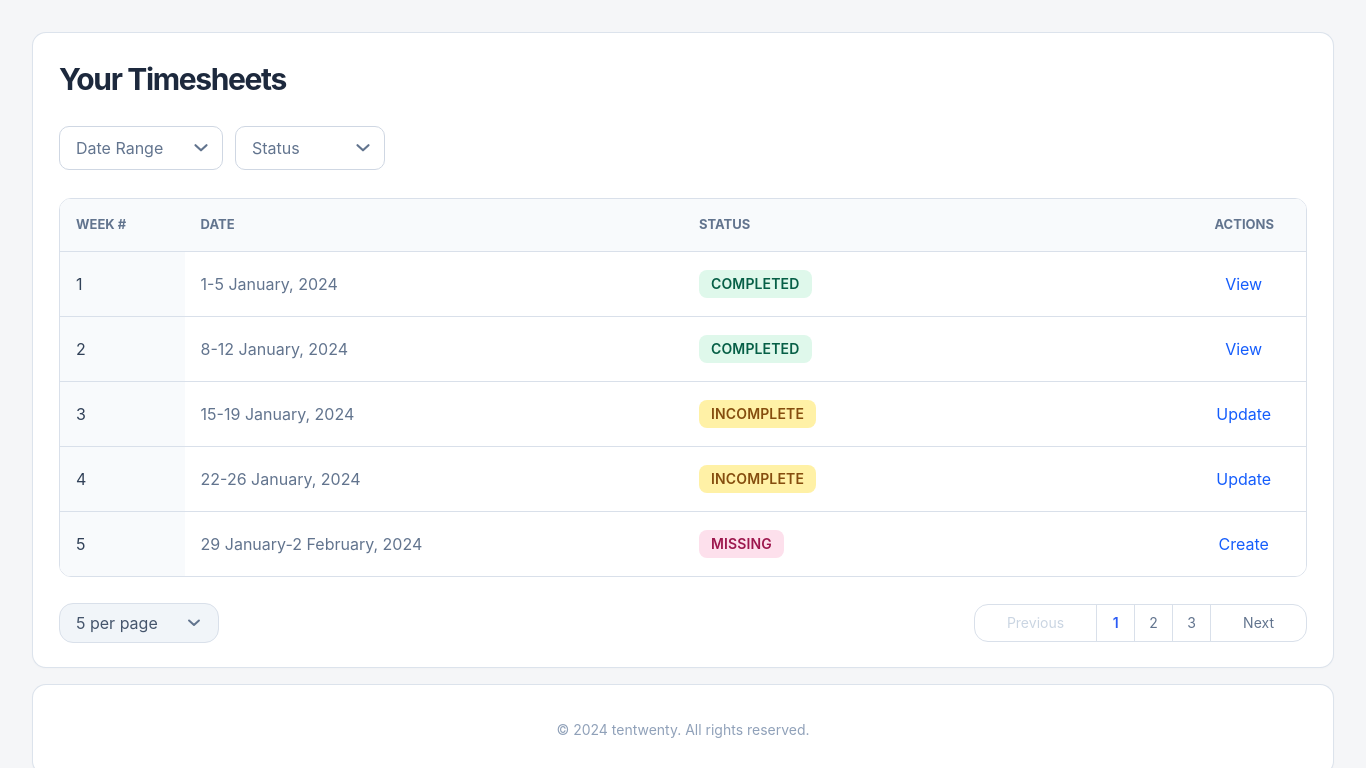
Test: TimesheetsPage › allows selecting 10 rows per page
expect the text "5-9 February, 2024" is not shown: met
Select "10 per page" in the dropdown named "Rows per page" at (139, 622), box 59,602 -> 219,642
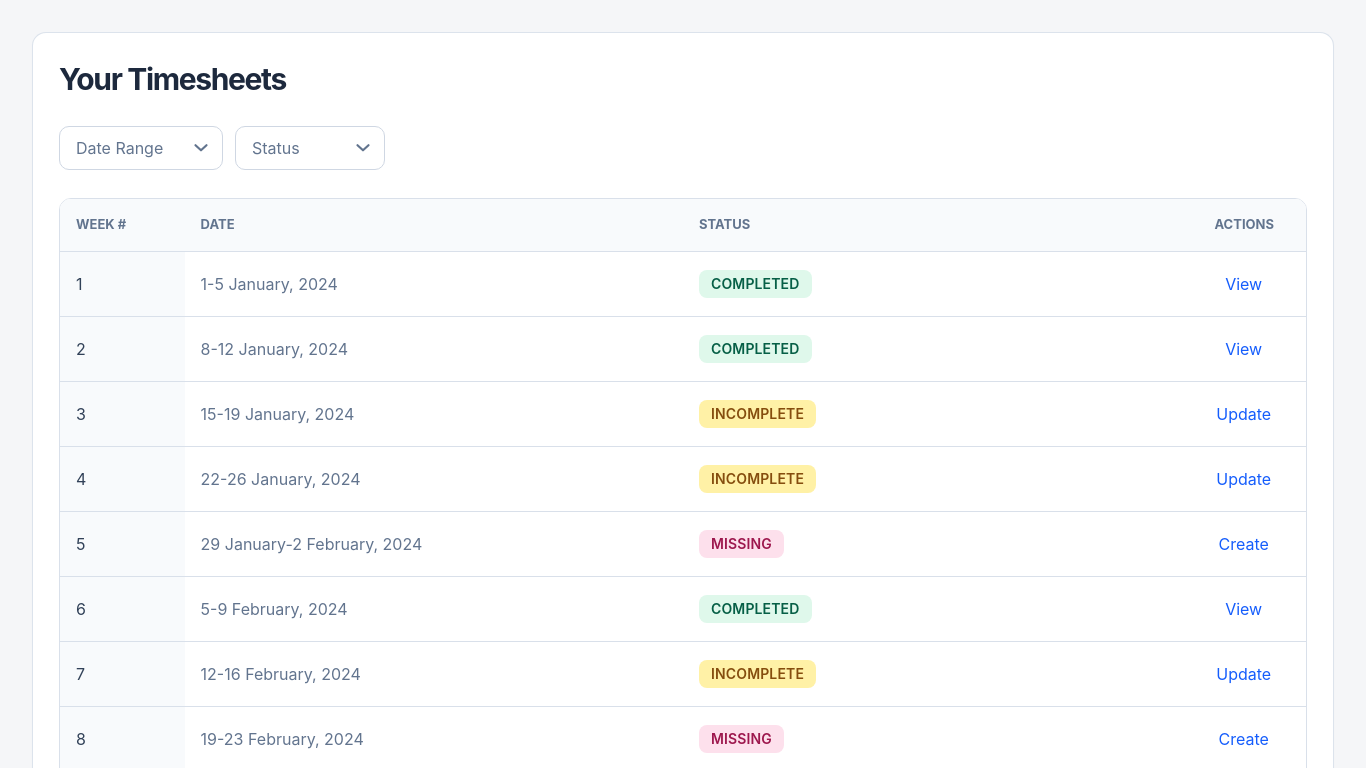
expect the text "5-9 February, 2024" is shown: met, box 185,576 -> 683,641
